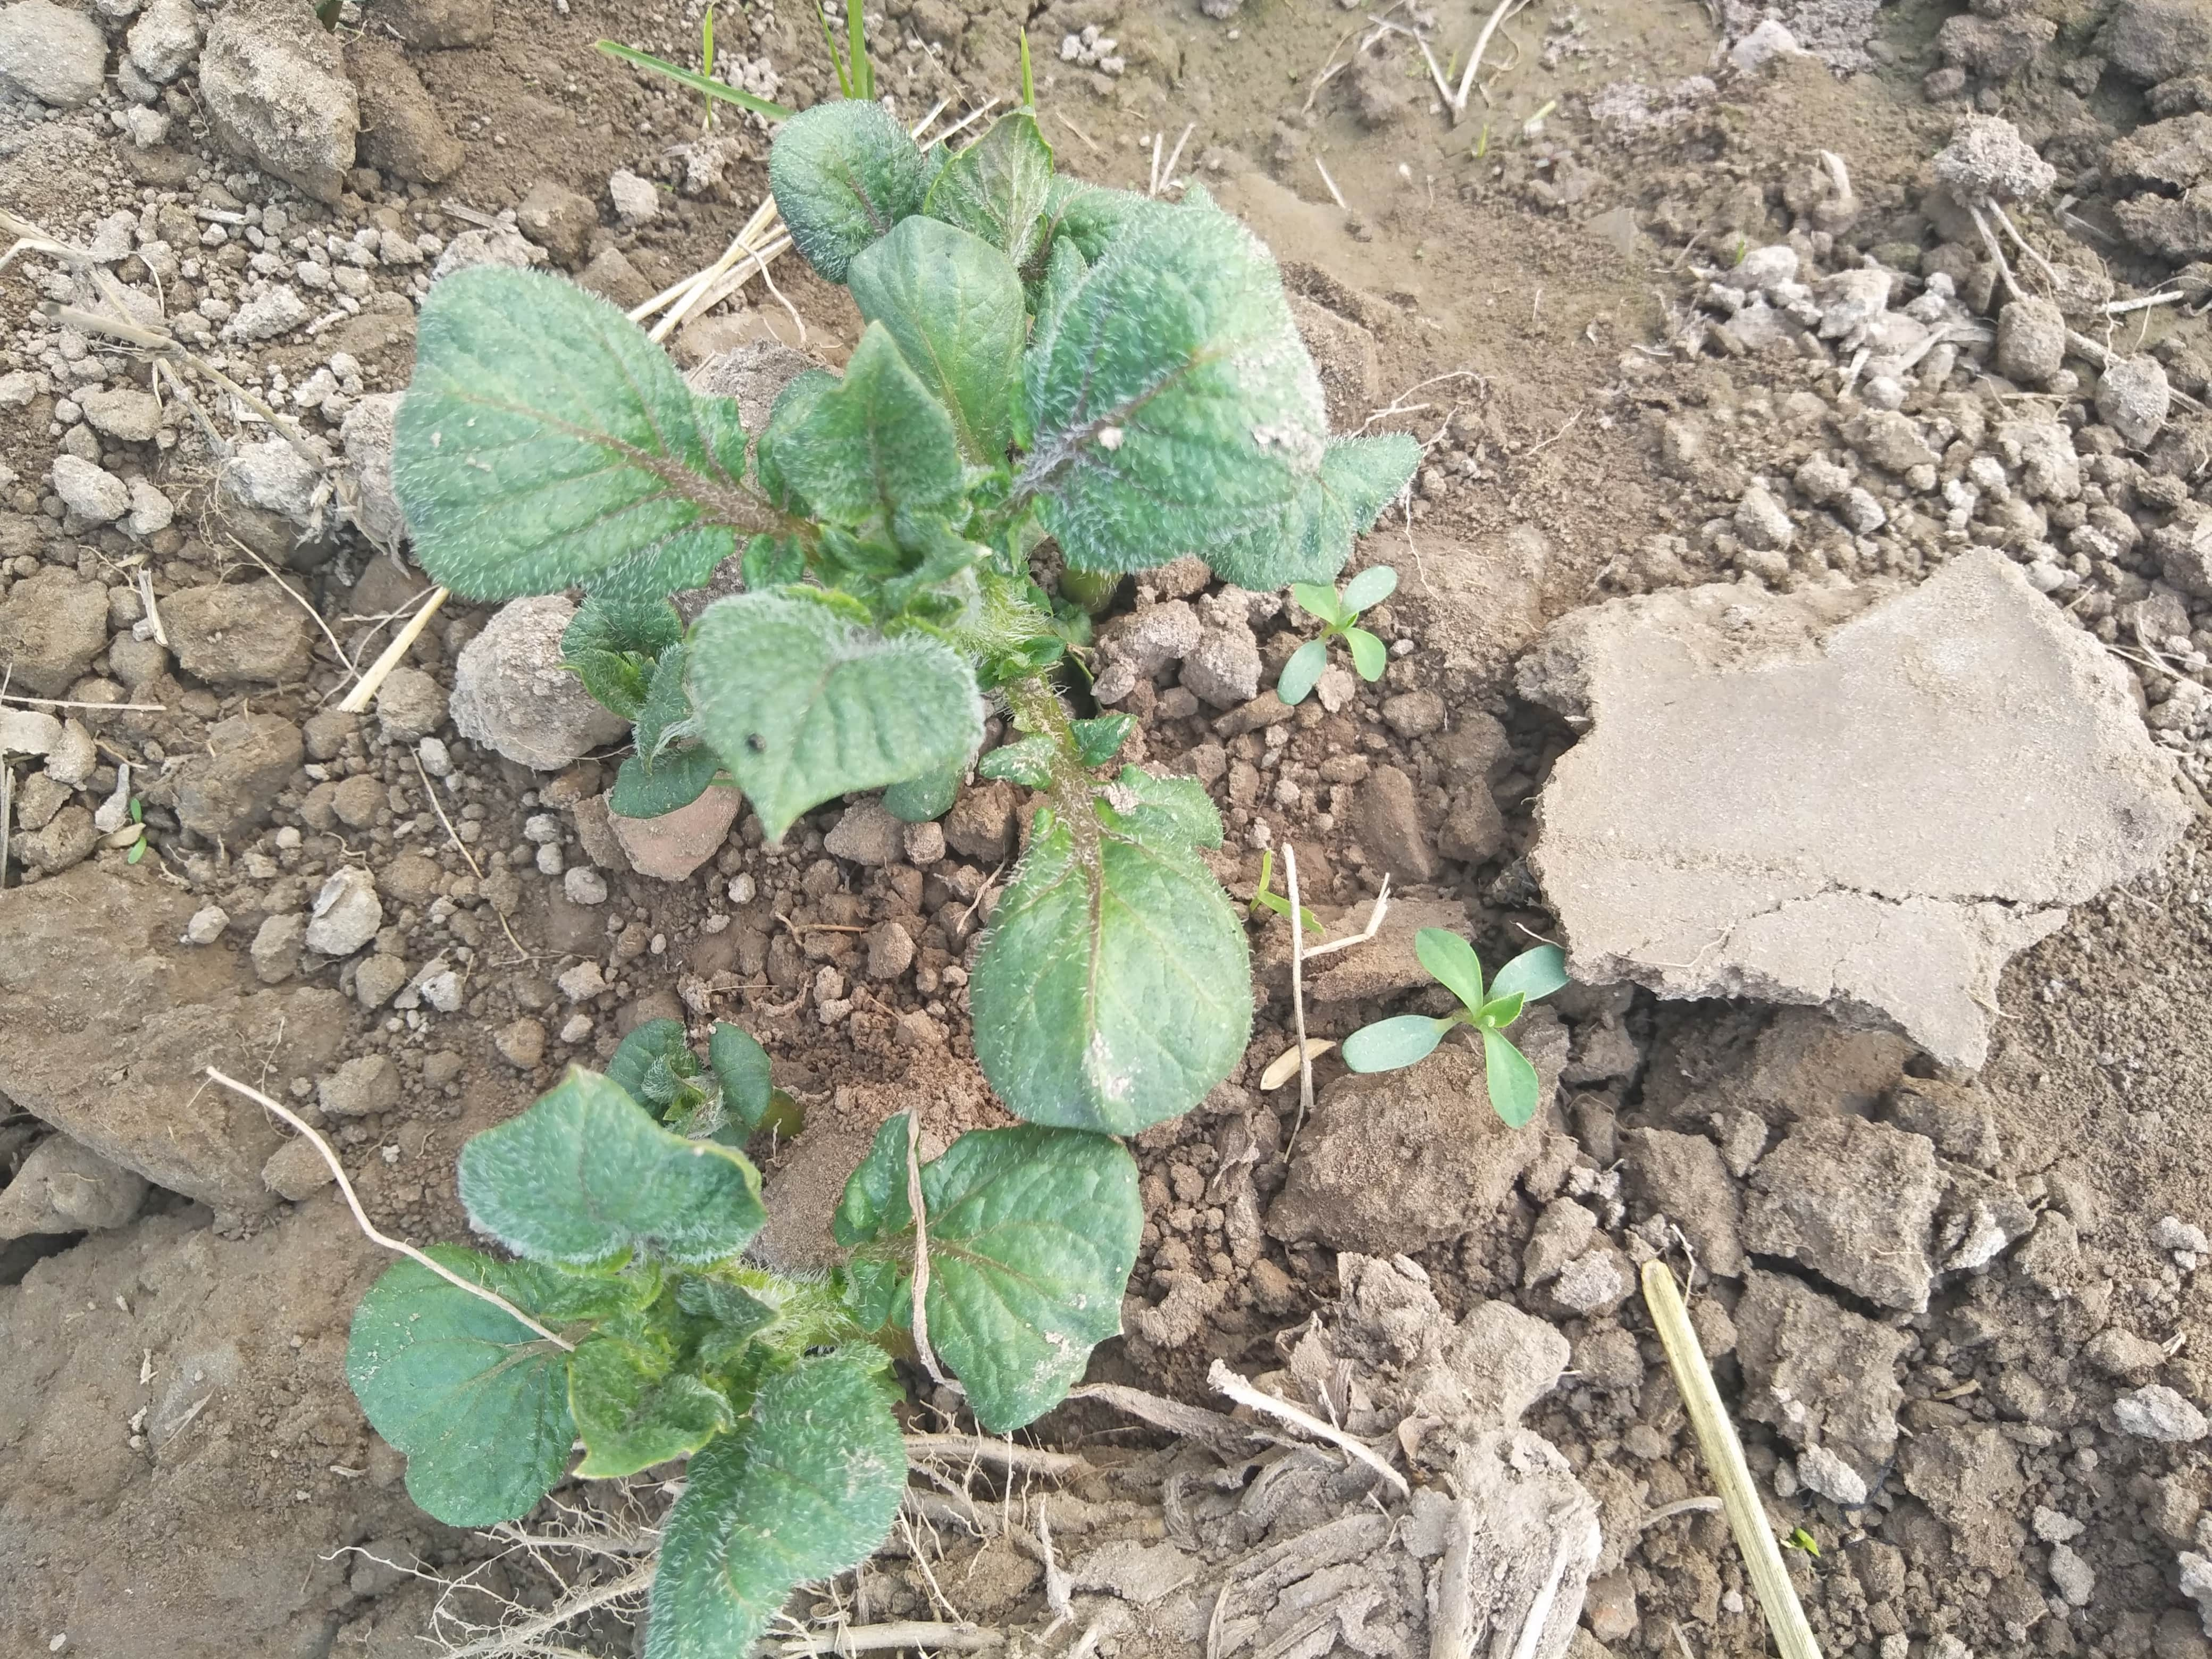daun: (1014, 185, 1331, 572), (395, 274, 742, 598), (974, 782, 1245, 1127), (834, 1117, 1132, 1427), (653, 1338, 907, 1649), (697, 592, 981, 849), (465, 1077, 752, 1309), (352, 1243, 580, 1523), (768, 324, 970, 575), (841, 218, 1021, 469), (766, 106, 944, 267), (561, 1319, 726, 1474), (547, 587, 700, 711)
